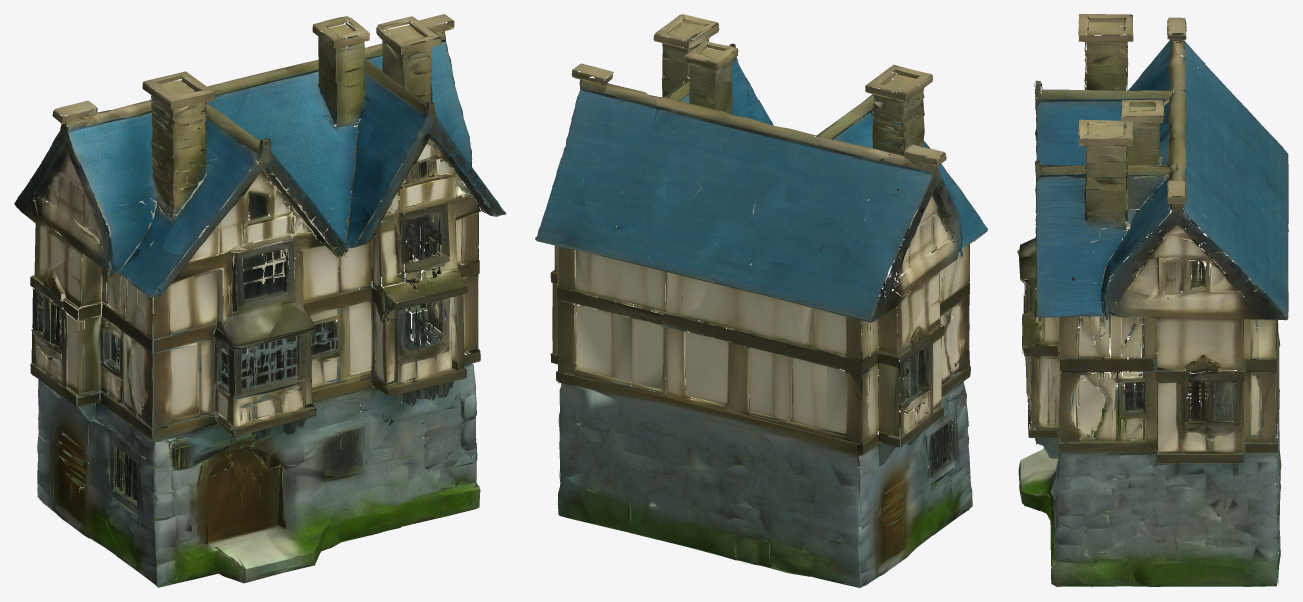
Rendered from townhouse.glb.
3 renders of one model, left to right at view 1: azimuth 30°, elevation 25°; view 2: azimuth 150°, elevation 25°; view 3: azimuth 270°, elevation 25°, orthographic. The views are drawn at different scales.
Visible parts, largest first — view 1: model; view 2: model; view 3: model.
Boxes of the visible parts, x1,y1,x2,y2 form: model: [14, 14, 506, 587]; model: [535, 14, 988, 587]; model: [1017, 14, 1288, 587].
Bounding box in the file's own units: 1.65 × 1.9 × 1.06.
Materials: 1 (1 with a texture image).
